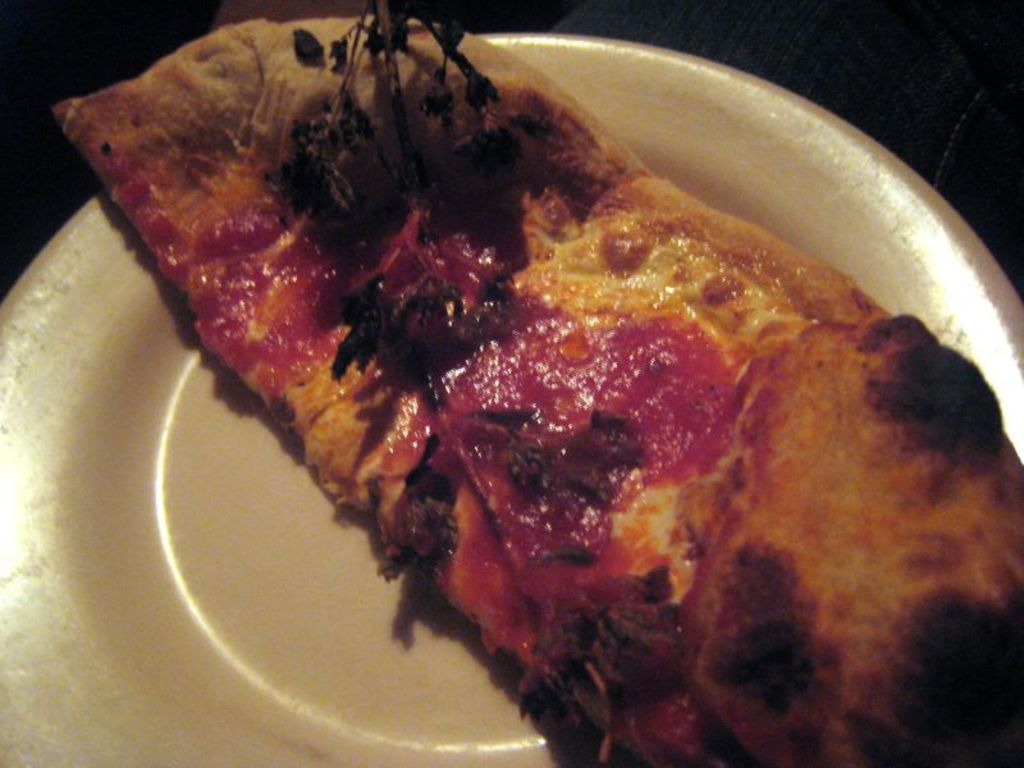Pizza: (43, 0, 1022, 766)
